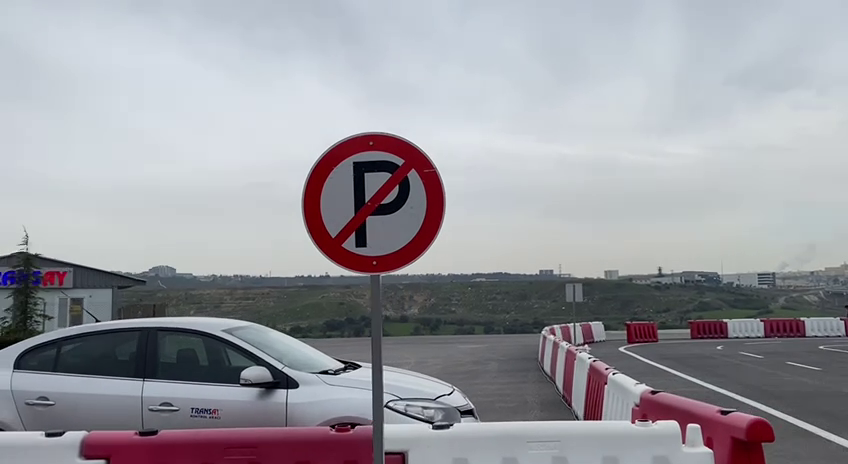noparking: (296, 127, 449, 276)
